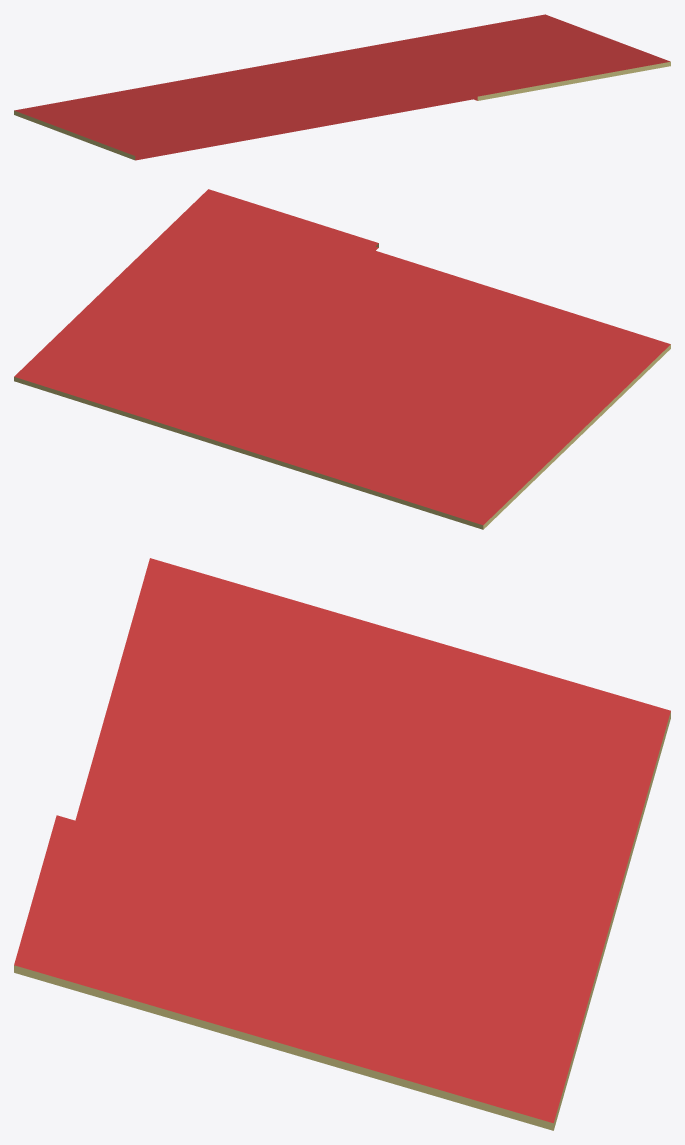
The picture shows the model from 3 angles, top to bottom: view 1: azimuth 30°, elevation 25°; view 2: azimuth 150°, elevation 25°; view 3: azimuth 270°, elevation 25°; orthographic projection. The views are drawn at different scales.
Size of the model in its own units: 12.45 by 7.87 by 1.83.
